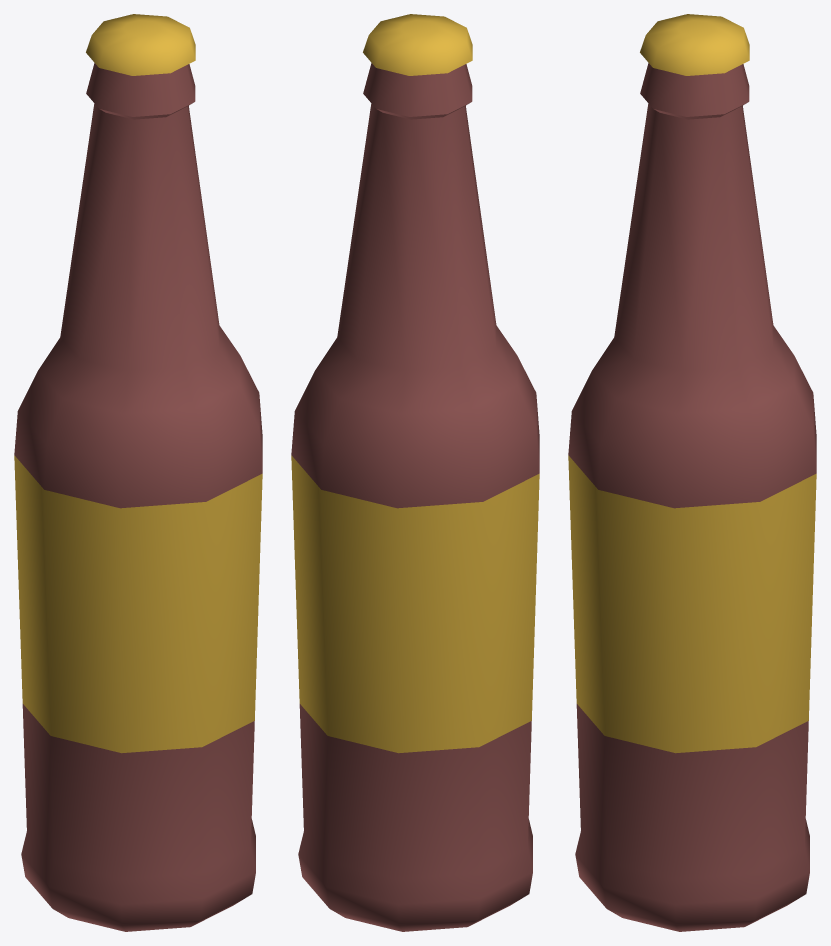
Rendered from BeerBottle_01.fbx.
The picture shows the model from 3 angles, left to right: view 1: azimuth 30°, elevation 25°; view 2: azimuth 150°, elevation 25°; view 3: azimuth 270°, elevation 25°; orthographic projection.
Visible parts, largest first — view 1: BeerBottle_01; view 2: BeerBottle_01; view 3: BeerBottle_01.
Part boxes in pixels (<box>): BeerBottle_01: <box>14,14,262,931</box>; BeerBottle_01: <box>291,14,539,931</box>; BeerBottle_01: <box>568,14,816,931</box>.
Size of the model in its own units: 9.56 by 36.32 by 9.42.
